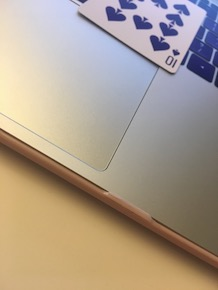TenOfSpades: (78, 1, 211, 74)
